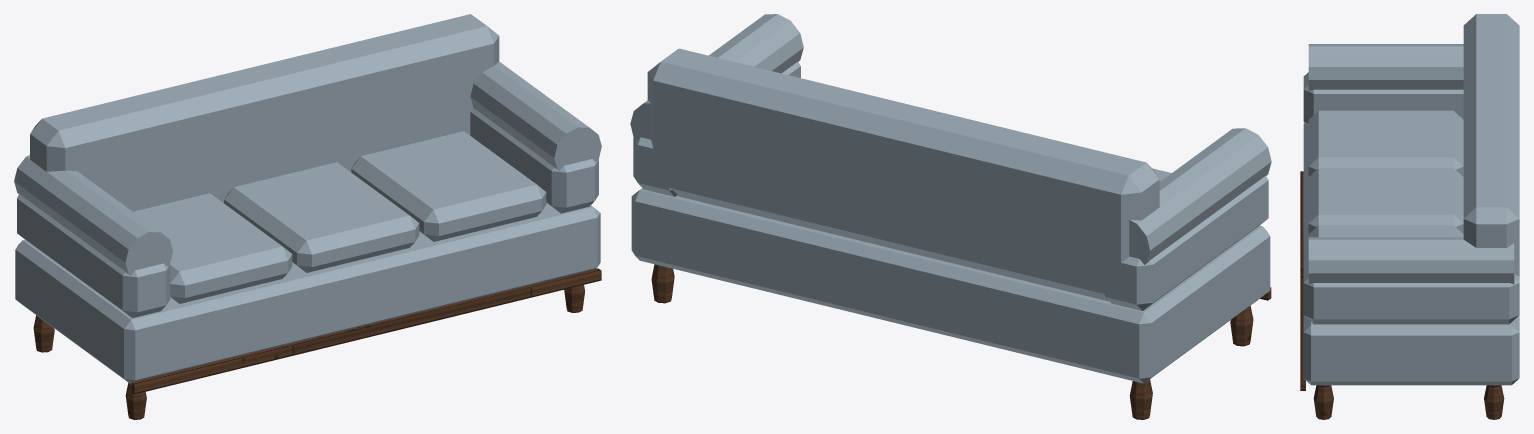
File: sofa.glb
3 views of the same model, side by side, from view 1: azimuth 30°, elevation 25°; view 2: azimuth 150°, elevation 25°; view 3: azimuth 270°, elevation 25° (orthographic). The views are drawn at different scales.
Visible parts, largest first — view 1: sofa_fabric, sofa_dkwood; view 2: sofa_fabric, sofa_dkwood; view 3: sofa_fabric, sofa_dkwood.
Part boxes in pixels (x1=…): sofa_fabric: x1=14, y1=14, x2=601, y2=384; sofa_dkwood: x1=33, y1=268, x2=601, y2=419; sofa_fabric: x1=630, y1=14, x2=1271, y2=383; sofa_dkwood: x1=651, y1=264, x2=1271, y2=419; sofa_fabric: x1=1303, y1=14, x2=1519, y2=385; sofa_dkwood: x1=1300, y1=171, x2=1504, y2=419.
Size of the model in its own units: 2 by 0.9 by 0.862.
Materials: 2 (1 with a texture image).
